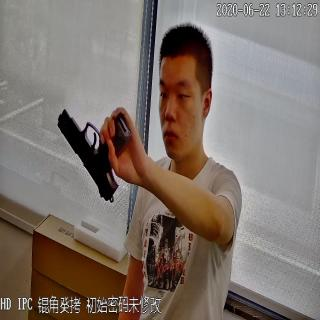gun: (57, 105, 133, 205)
